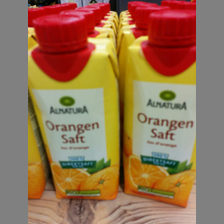juice: (28, 14, 120, 203), (123, 11, 194, 208)
